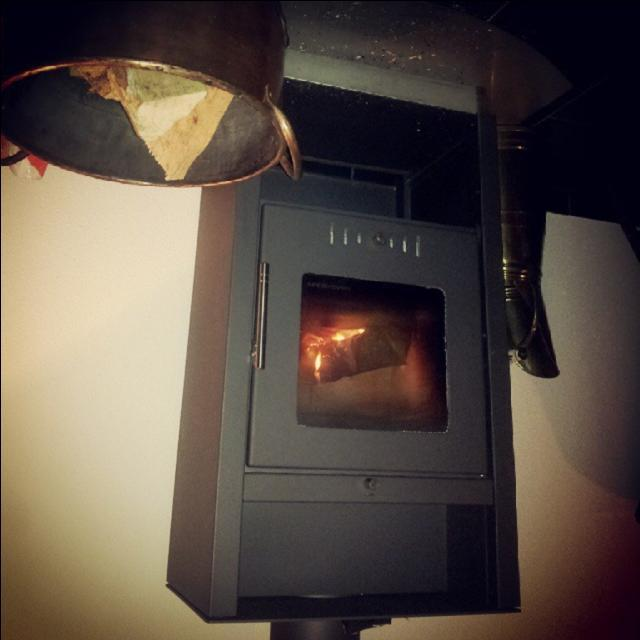Fire: (296, 309, 399, 402)
